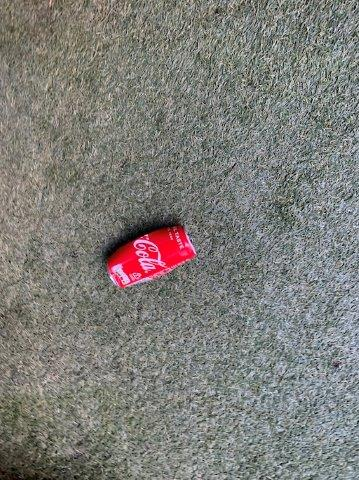kaleng: (106, 227, 195, 287)
